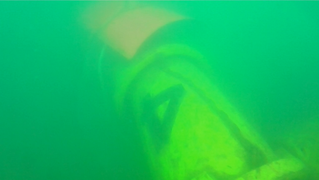4: (139, 83, 186, 155)
leak: (93, 4, 208, 60)
pipe: (106, 41, 311, 180), (269, 122, 319, 175)
